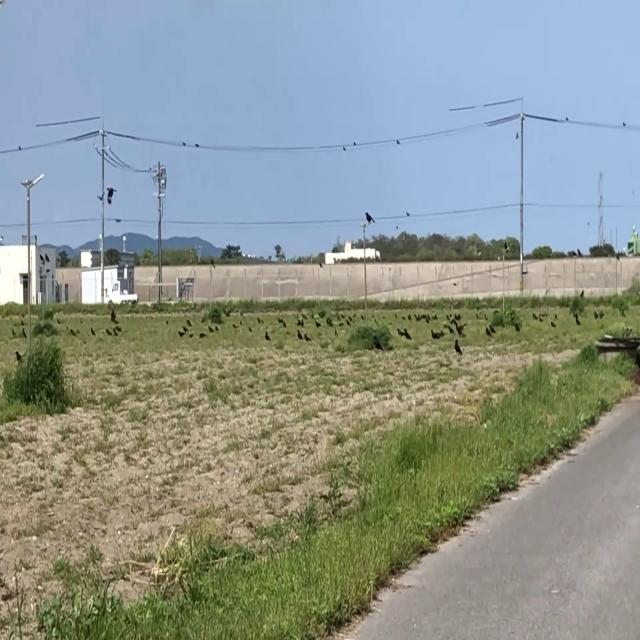bird: (106, 179, 116, 207), (364, 206, 374, 229), (455, 338, 461, 358), (265, 326, 270, 344), (404, 325, 409, 342), (486, 324, 490, 339), (182, 136, 186, 148)
